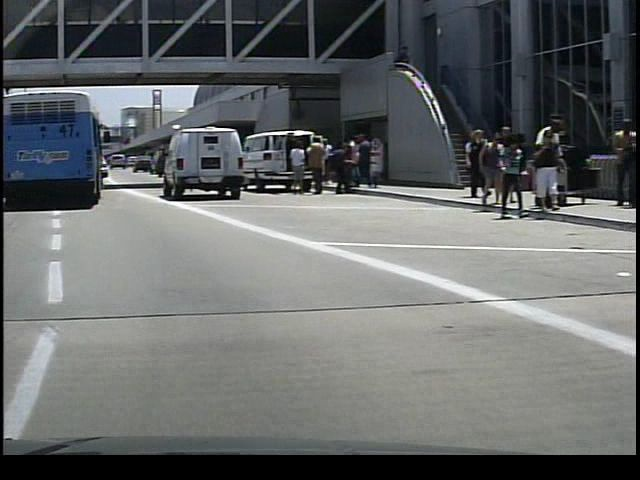person: (528, 119, 561, 215), (526, 128, 560, 216), (301, 134, 328, 197), (283, 134, 304, 194), (349, 132, 371, 189)
